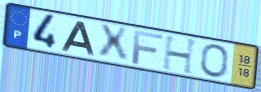4: (30, 12, 61, 52)
A: (60, 19, 97, 58)
F: (131, 29, 165, 66)
H: (160, 34, 201, 77)
O: (200, 42, 230, 80)
X: (97, 23, 130, 64)
